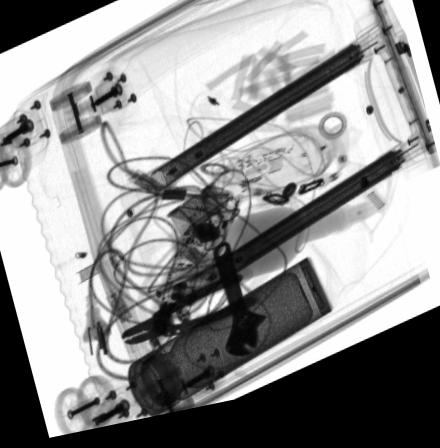Pliers: (121, 282, 254, 348)
Wrench: (214, 249, 267, 366)
